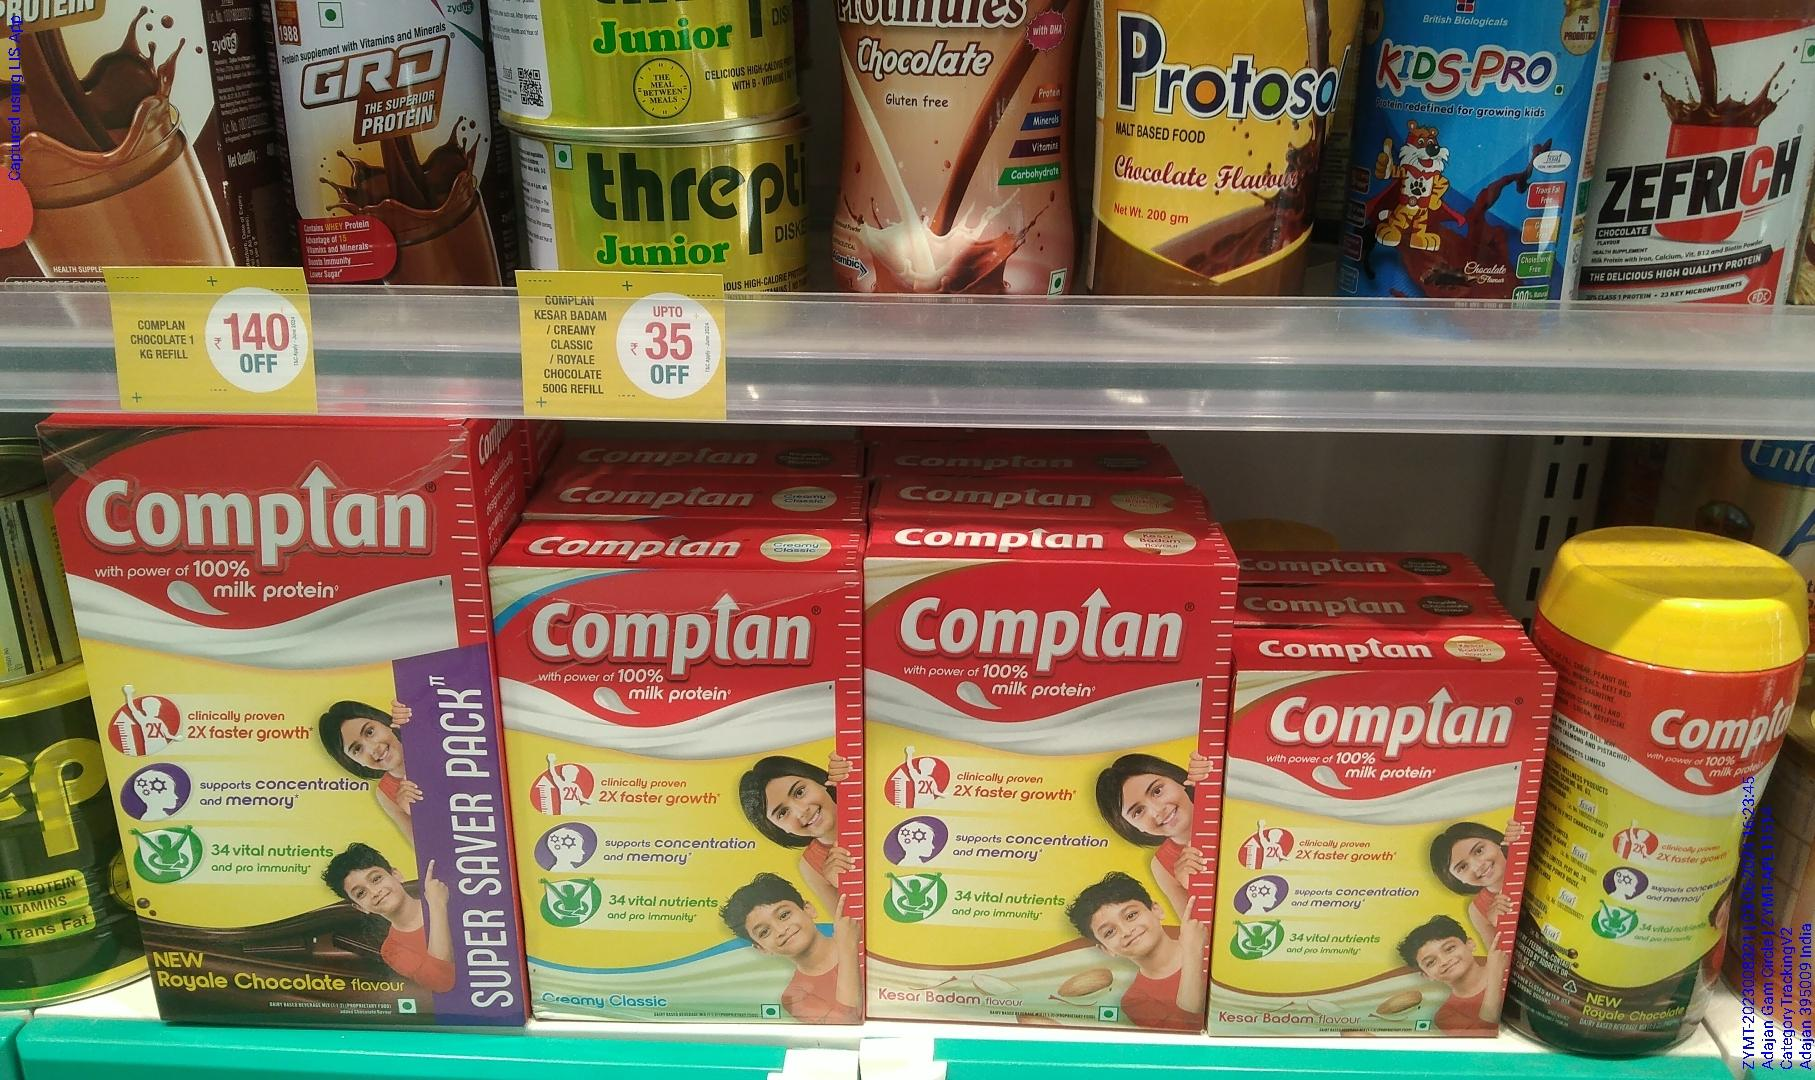COMPLAN_CHOCOLATE_1_KG_PACK: (49, 427, 504, 1021)
COMPLAN_CHOCOLATE_500_GMS_JAR: (1545, 608, 1787, 1052)
COMPLAN_KESAR_BADAM_200_GMS_PACK: (1220, 671, 1509, 1040)
COMPLAN_KESAR_BADAM_500_GMS_PACK: (863, 557, 1207, 1038), (508, 572, 860, 1023)
